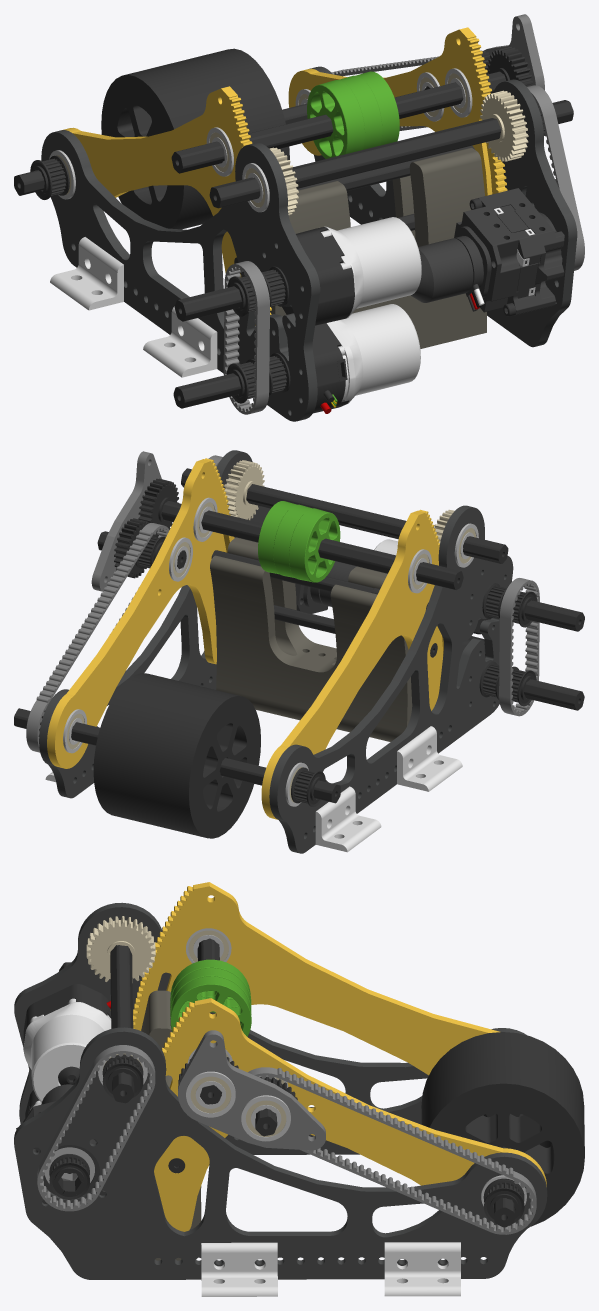
3 views of the same model, one above another, from view 1: azimuth 30°, elevation 25°; view 2: azimuth 150°, elevation 25°; view 3: azimuth 270°, elevation 25° (orthographic). The views are drawn at different scales.
Parts seen in each view (by area): view 1: Part 2 (×2), Part 1 (×3), 4" Solid Urethane Wheel (45A, 1.5" Wide, 1/2" Hex Bore) (×2), id116 (×2), #10 Aluminum Standoff (10" L, 1/2" Hex Profile) (×3), 4113 2x1x1 4113 (×2), 2" Compliant Wheel (35A, 3/4" Wide, 1/2" Hex Stretch Bore) (×3), SPARK Flex Brushless Motor Controller (×2), 24t Aluminum Pulley (GT2 3mm, 9mm Wide, 1/2" Hex Bore) (×5), NEO 550 Brushless Motor, 48T HTD Belt, MAXPlanetary Input Slice (+11 smaller); view 2: Part 1 (×3), Part 2 (×2), 4" Solid Urethane Wheel (45A, 1.5" Wide, 1/2" Hex Bore) (×2), #10 Aluminum Standoff (10" L, 1/2" Hex Profile) (×3), 4113 2x1x1 4113 (×2), 2" Compliant Wheel (35A, 3/4" Wide, 1/2" Hex Stretch Bore) (×3), 24t Aluminum Pulley (GT2 3mm, 9mm Wide, 1/2" Hex Bore) (×6), 90T HTD Belt, 48T HTD Belt, 1/2" Hex Bore Bearing (1.125" OD, 0.313" WD, Shielded, Flang (×5), #10 Aluminum Standoff (3" L, 1/2" Hex Profile) (×2), Part 5 (+4 smaller); view 3: Part 2 (×2), Part 1 (×3), 4" Solid Urethane Wheel (45A, 1.5" Wide, 1/2" Hex Bore) (×2), 4113 2x1x1 4113 (×2), Part 5, 90T HTD Belt, id116, 2" Compliant Wheel (35A, 3/4" Wide, 1/2" Hex Stretch Bore) (×3), 1/2" Hex Bore Bearing (1.125" OD, 0.313" WD, Shielded, Flang (×3), #10 Aluminum Standoff (10" L, 1/2" Hex Profile) (×3), 55T HTD Belt, 24t Aluminum Pulley (GT2 3mm, 9mm Wide, 1/2" Hex Bore) (×3) (+3 smaller).
Part boxes in pixels (x1,y1,x2,y2): Part 2 (×2): [41, 66, 577, 421]; Part 1 (×3): [62, 27, 507, 348]; 4" Solid Urethane Wheel (45A, 1.5" Wide, 1/2" Hex Bore) (×2): [101, 48, 289, 229]; id116 (×2): [321, 217, 421, 406]; #10 Aluminum Standoff (10" L, 1/2" Hex Profile) (×3): [14, 71, 573, 208]; 4113 2x1x1 4113 (×2): [50, 237, 217, 377]; 2" Compliant Wheel (35A, 3/4" Wide, 1/2" Hex Stretch Bore) (×3): [307, 71, 399, 158]; SPARK Flex Brushless Motor Controller (×2): [282, 227, 354, 413]; 24t Aluminum Pulley (GT2 3mm, 9mm Wide, 1/2" Hex Bore) (×5): [30, 155, 290, 403]; NEO 550 Brushless Motor: [411, 236, 484, 311]; 48T HTD Belt: [223, 261, 269, 414]; MAXPlanetary Input Slice: [454, 197, 520, 315]; Part 1 (×3): [47, 458, 443, 819]; Part 2 (×2): [39, 450, 513, 853]; 4" Solid Urethane Wheel (45A, 1.5" Wide, 1/2" Hex Bore) (×2): [93, 673, 260, 838]; #10 Aluminum Standoff (10" L, 1/2" Hex Profile) (×3): [14, 468, 508, 803]; 4113 2x1x1 4113 (×2): [315, 726, 462, 852]; 2" Compliant Wheel (35A, 3/4" Wide, 1/2" Hex Stretch Bore) (×3): [258, 501, 340, 582]; 24t Aluminum Pulley (GT2 3mm, 9mm Wide, 1/2" Hex Bore) (×6): [135, 536, 537, 807]; 90T HTD Belt: [26, 523, 169, 752]; 48T HTD Belt: [499, 578, 539, 716]; 1/2" Hex Bore Bearing (1.125" OD, 0.313" WD, Shielded, Flang (×5): [63, 497, 478, 753]; #10 Aluminum Standoff (3" L, 1/2" Hex Profile) (×2): [482, 596, 584, 710]; Part 5: [91, 451, 161, 591]; Part 2 (×2): [14, 902, 547, 1279]; Part 1 (×3): [133, 882, 546, 1260]; 4" Solid Urethane Wheel (45A, 1.5" Wide, 1/2" Hex Bore) (×2): [421, 1032, 584, 1226]; 4113 2x1x1 4113 (×2): [201, 1242, 460, 1296]; Part 5: [178, 1030, 325, 1150]; 90T HTD Belt: [248, 1067, 536, 1234]; id116: [23, 998, 111, 1102]; 2" Compliant Wheel (35A, 3/4" Wide, 1/2" Hex Stretch Bore) (×3): [170, 959, 251, 1036]; 1/2" Hex Bore Bearing (1.125" OD, 0.313" WD, Shielded, Flang (×3): [186, 928, 290, 1141]; #10 Aluminum Standoff (10" L, 1/2" Hex Profile) (×3): [110, 938, 514, 1227]; 55T HTD Belt: [37, 1045, 155, 1211]; 24t Aluminum Pulley (GT2 3mm, 9mm Wide, 1/2" Hex Bore) (×3): [49, 1054, 524, 1223].
Size of the model in its own units: 0.3128 by 0.1881 by 0.3565.
